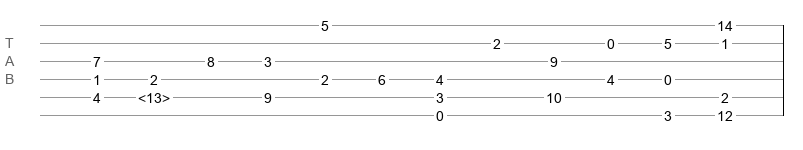0: (436, 108, 444, 118), (607, 36, 615, 46), (664, 72, 672, 82)
1: (93, 72, 101, 82), (721, 36, 729, 46)
10: (546, 90, 562, 100)
12: (717, 108, 733, 118)
14: (717, 18, 733, 28)
2: (150, 72, 158, 82), (321, 72, 329, 82), (493, 36, 501, 46), (721, 90, 729, 100)
3: (264, 54, 272, 64), (436, 90, 444, 100), (664, 108, 672, 118)
4: (93, 90, 101, 100), (436, 72, 444, 82), (607, 72, 615, 82)
5: (321, 18, 329, 28), (664, 36, 672, 46)
6: (378, 72, 386, 82)
7: (93, 54, 101, 64)
8: (207, 54, 215, 64)
9: (264, 90, 272, 100), (550, 54, 558, 64)
harmonic: (138, 90, 170, 100)
